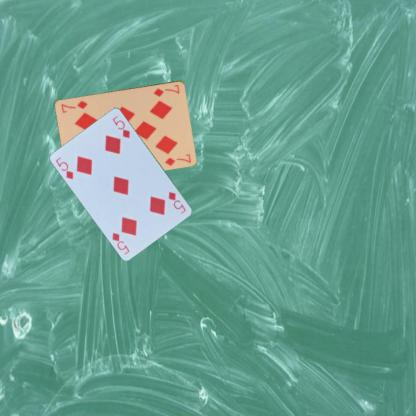5d: (53, 155, 75, 181), (166, 189, 187, 215)
7d: (151, 82, 181, 98)
